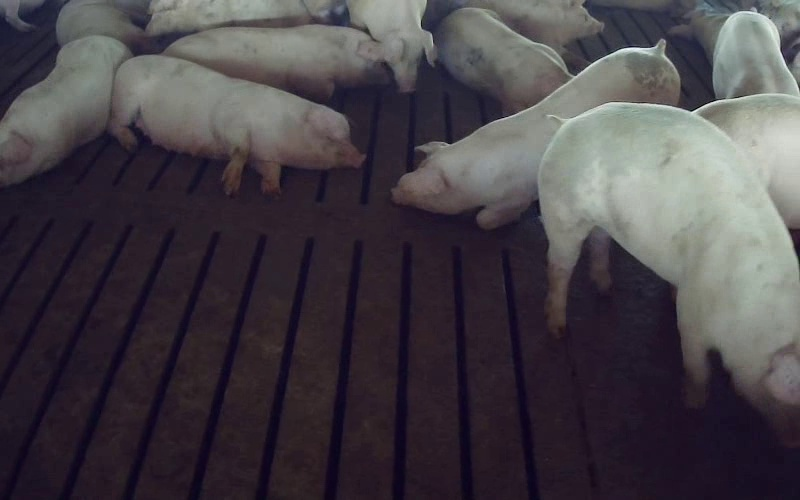pig: (538, 103, 799, 445), (392, 41, 679, 228), (110, 55, 363, 194), (0, 36, 131, 186), (164, 25, 391, 101), (435, 8, 571, 114), (423, 0, 603, 72), (347, 0, 434, 92), (713, 11, 799, 98), (146, 0, 347, 36), (56, 0, 148, 52)
